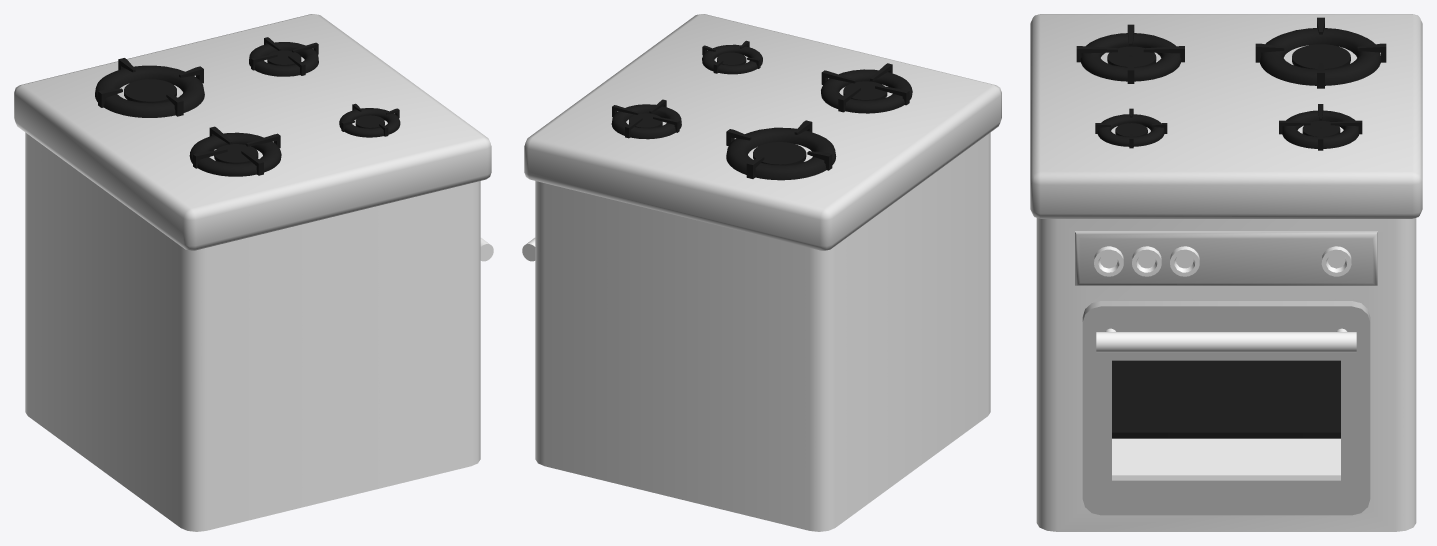
The model's file is furniture_electronics_210040.glb.
3 renders of one model, left to right at view 1: azimuth 30°, elevation 25°; view 2: azimuth 150°, elevation 25°; view 3: azimuth 270°, elevation 25°, orthographic. The views are drawn at different scales.
Visible parts, largest first — view 1: furniture_electronics_210040; view 2: furniture_electronics_210040; view 3: furniture_electronics_210040.
Part boxes in pixels (x1,y1,x2,y2): furniture_electronics_210040: (14, 14, 493, 531); furniture_electronics_210040: (522, 14, 1001, 531); furniture_electronics_210040: (1030, 14, 1422, 531).
Size of the model in its own units: 0.8564 by 0.8258 by 0.7842.
1 material, 1 textured.
